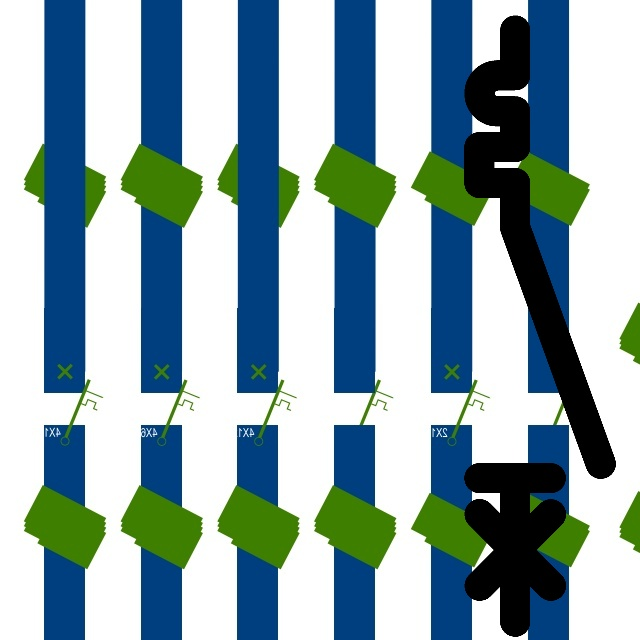interruptor_termomagnetico: (464, 15, 616, 637)
